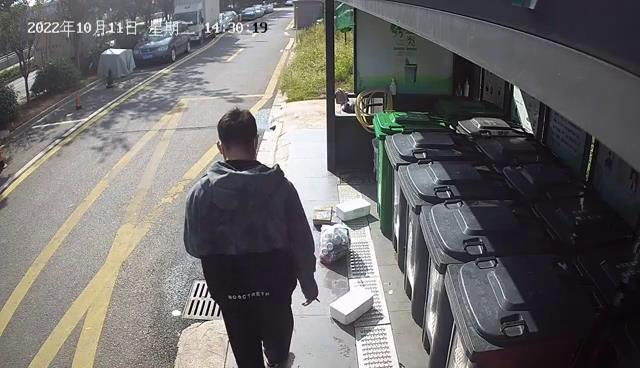person: (182, 107, 320, 368)
suliaozhipin: (317, 222, 352, 267)
zhizhipin: (328, 287, 376, 326), (335, 197, 372, 221), (312, 205, 333, 227)
